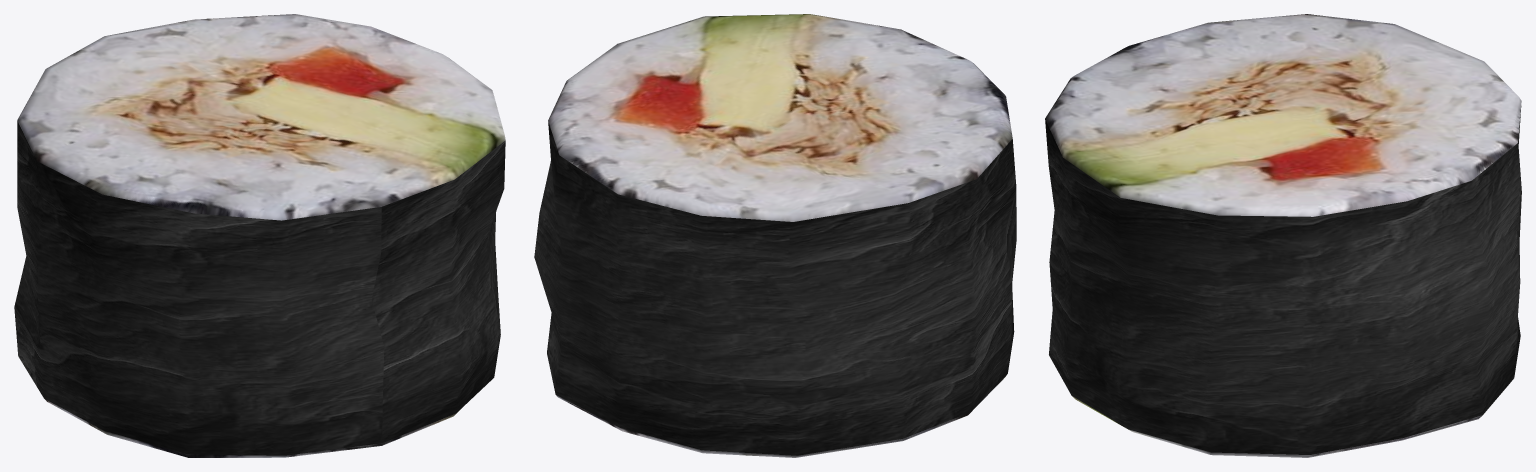
The model's file is Sushi 2.FBX.
The picture shows the model from 3 angles, left to right: view 1: azimuth 30°, elevation 25°; view 2: azimuth 150°, elevation 25°; view 3: azimuth 270°, elevation 25°; orthographic projection.
Parts seen in each view (by area): view 1: sushi 2; view 2: sushi 2; view 3: sushi 2.
Part boxes in pixels (bbox=[...]): sushi 2: bbox=[14, 14, 505, 457]; sushi 2: bbox=[534, 14, 1016, 457]; sushi 2: bbox=[1045, 14, 1521, 457].
Size of the model in its own units: 5.43 by 3.14 by 5.37.
Materials: 1 (1 with a texture image).
